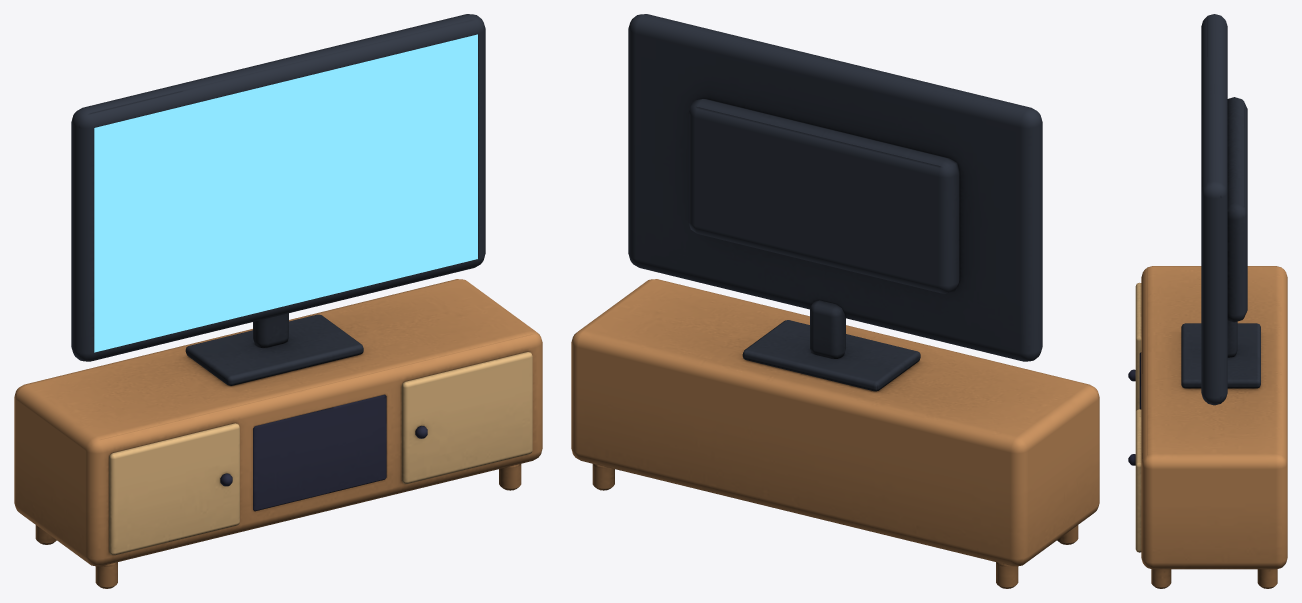
File: tv_stand.glb
The picture shows the model from 3 angles, left to right: view 1: azimuth 30°, elevation 25°; view 2: azimuth 150°, elevation 25°; view 3: azimuth 270°, elevation 25°; orthographic projection. The views are drawn at different scales.
Parts seen in each view (by area): view 1: tv_stand; view 2: tv_stand; view 3: tv_stand.
Boxes of the visible parts, left/top/right/bottom form: tv_stand: left=14, top=14, right=542, bottom=588; tv_stand: left=571, top=14, right=1099, bottom=588; tv_stand: left=1128, top=14, right=1287, bottom=588.
Bounding box in the file's own units: 1.4 × 1.33 × 0.4791.
Materials: 6 (5 with a texture image).
